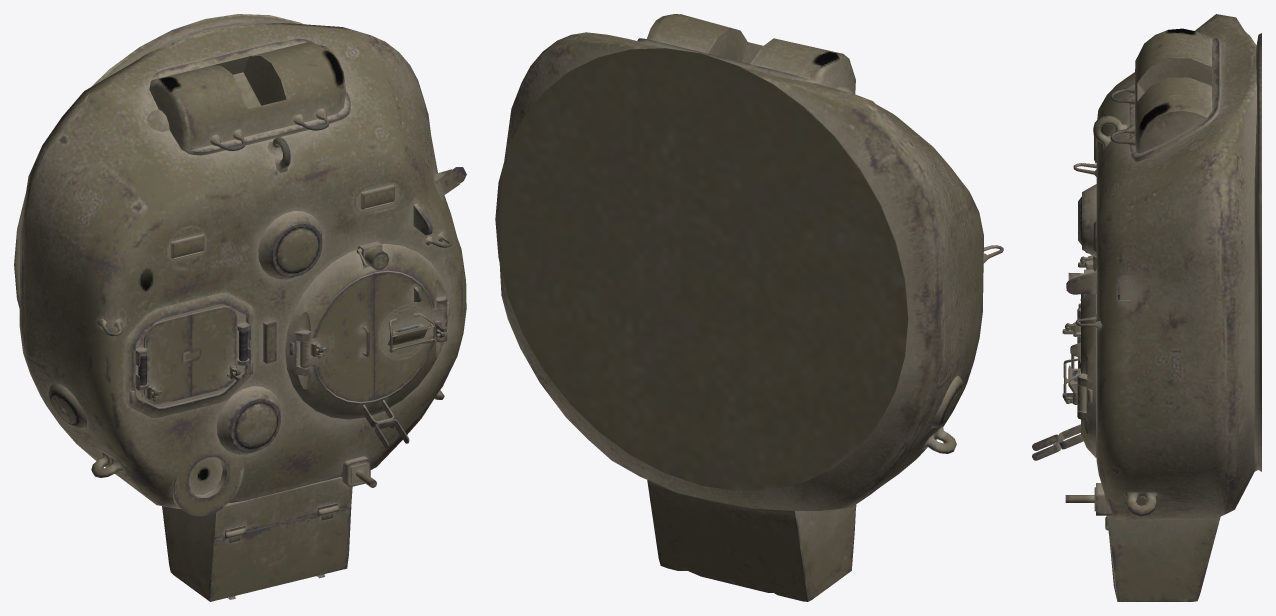
Rendered from Turret_01.glb.
The picture shows the model from 3 angles, left to right: view 1: azimuth 30°, elevation 25°; view 2: azimuth 150°, elevation 25°; view 3: azimuth 270°, elevation 25°; orthographic projection. The views are drawn at different scales.
Visible parts, largest first — view 1: set_0_group_0; view 2: set_0_group_0; view 3: set_0_group_0.
Boxes of the visible parts, x1,y1,x2,y2 form: set_0_group_0: [14, 14, 466, 601]; set_0_group_0: [495, 14, 1003, 601]; set_0_group_0: [1032, 14, 1261, 601].
Size of the model in its own units: 2.28 by 2.77 by 1.11.
Materials: 1 (1 with a texture image).
